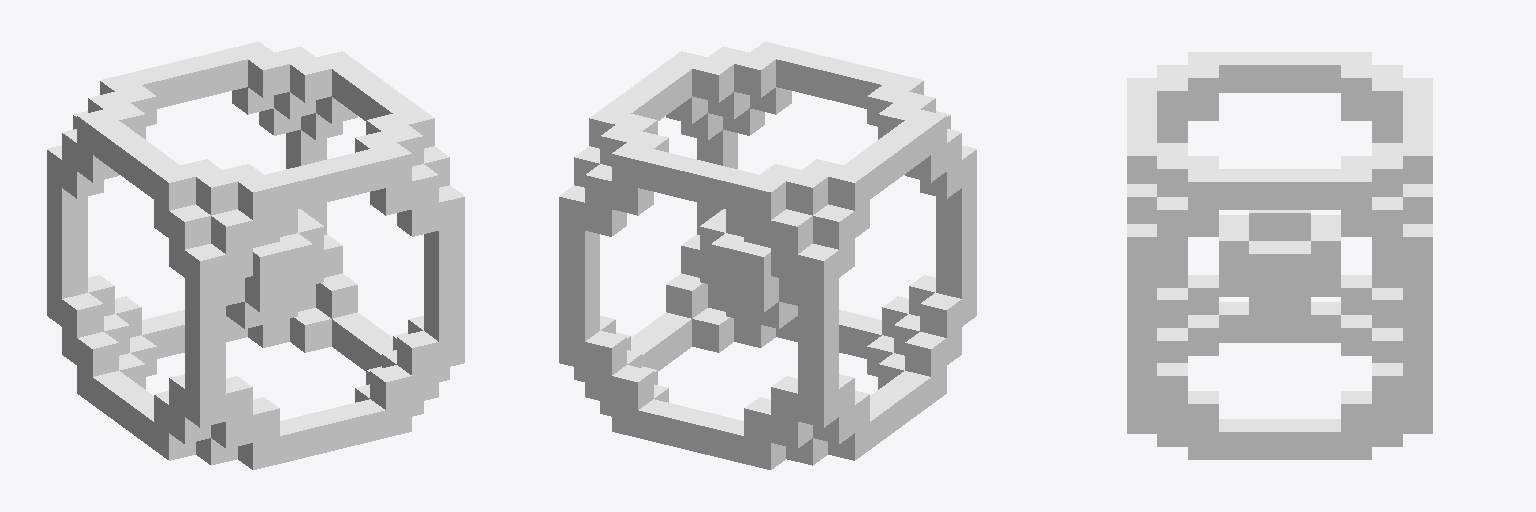
Rendered from checkpoint2.obj.
The picture shows the model from 3 angles: view 1: azimuth 30°, elevation 25°; view 2: azimuth 150°, elevation 25°; view 3: azimuth 270°, elevation 25°; orthographic projection.
Visible parts, largest first — view 1: object 1; view 2: object 1; view 3: object 1.
Boxes of the visible parts, box(x1,y1,x2,y2) form: object 1: box(47, 42, 464, 469); object 1: box(559, 42, 976, 469); object 1: box(1127, 52, 1432, 459).
Bounding box in the file's own units: 1 × 1 × 1.